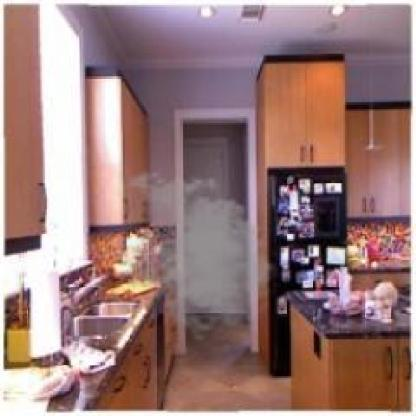Smoke: (104, 167, 281, 344)
